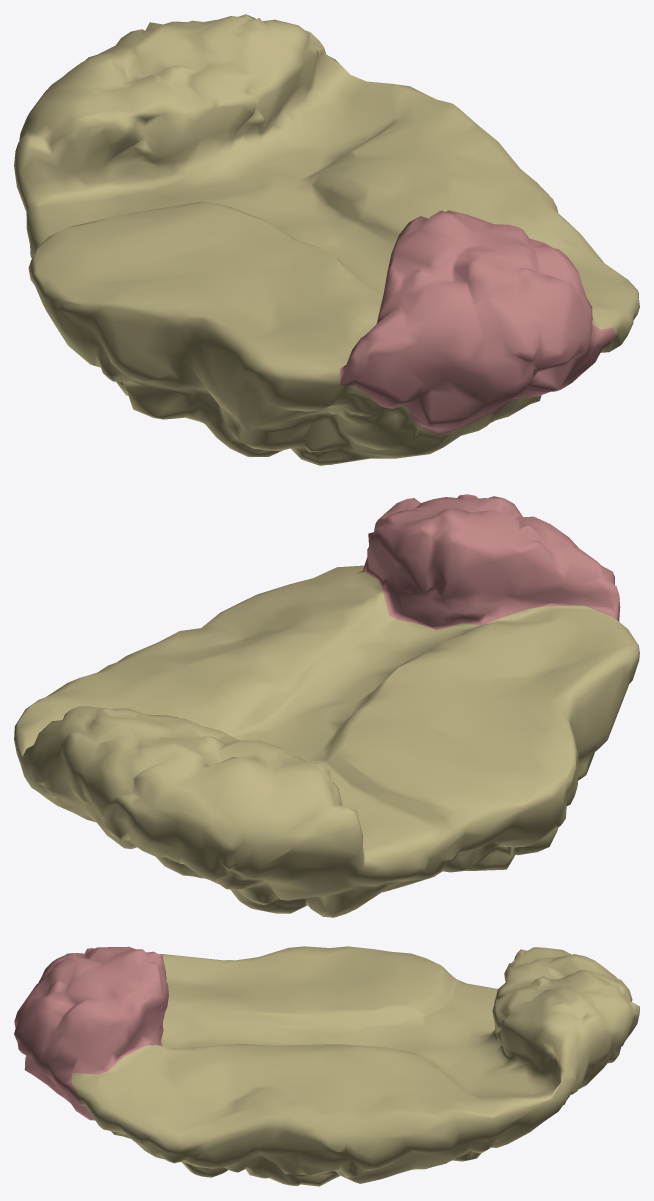
Rendered from map1_lp.fbx.
The picture shows the model from 3 angles, top to bottom: view 1: azimuth 30°, elevation 25°; view 2: azimuth 150°, elevation 25°; view 3: azimuth 270°, elevation 25°; orthographic projection. The views are drawn at different scales.
Parts seen in each view (by area): view 1: map1_lp; view 2: map1_lp; view 3: map1_lp.
Boxes of the visible parts, bbox=[...] form: map1_lp: bbox=[14, 14, 639, 465]; map1_lp: bbox=[14, 494, 639, 917]; map1_lp: bbox=[14, 946, 639, 1186].
Size of the model in its own units: 23292 by 11519 by 33004.
